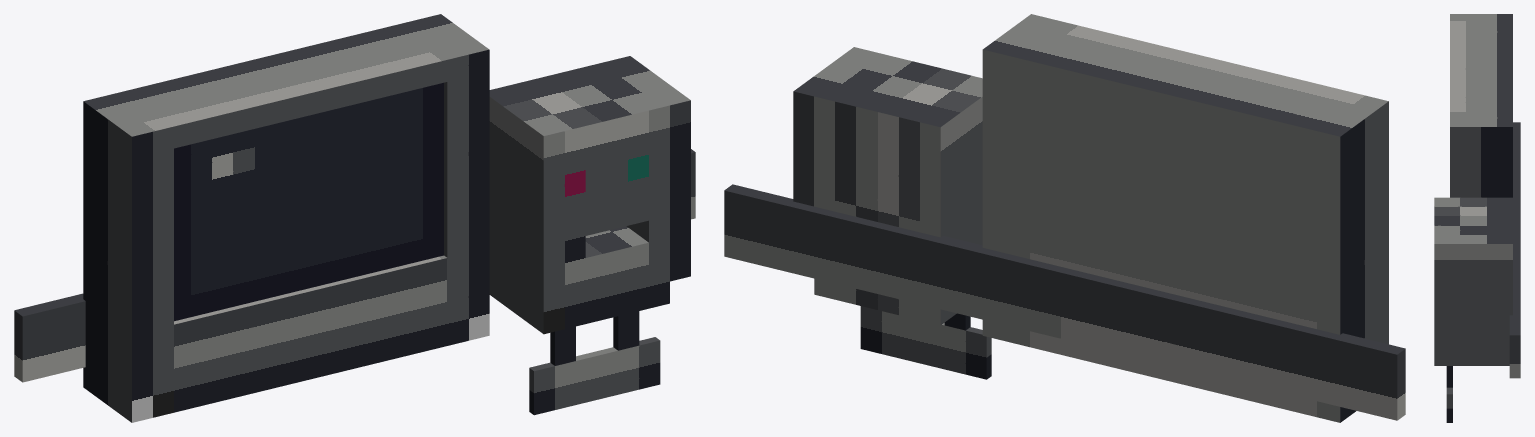
The model's file is ticket_machine_off.glb.
3 renders of one model, left to right at view 1: azimuth 30°, elevation 25°; view 2: azimuth 150°, elevation 25°; view 3: azimuth 270°, elevation 25°, orthographic. The views are drawn at different scales.
Visible parts, largest first — view 1: Continuous_Display_Housing, Continuous_Ticket_Dispenser, Recessed_Display_Surface, Lower_Dispenser_Bracket, Shared_Wall_Mounting_Rail; view 2: Continuous_Display_Housing, Shared_Wall_Mounting_Rail, Continuous_Ticket_Dispenser, Lower_Dispenser_Bracket; view 3: Continuous_Ticket_Dispenser, Continuous_Display_Housing, Shared_Wall_Mounting_Rail, Lower_Dispenser_Bracket.
Part boxes in pixels (x1,y1,x2,y2): Continuous_Display_Housing: [83, 14, 489, 422]; Continuous_Ticket_Dispenser: [489, 56, 690, 334]; Recessed_Display_Surface: [174, 82, 443, 321]; Lower_Dispenser_Bracket: [529, 311, 660, 415]; Shared_Wall_Mounting_Rail: [14, 149, 695, 382]; Continuous_Display_Housing: [982, 14, 1388, 422]; Shared_Wall_Mounting_Rail: [724, 184, 1405, 420]; Continuous_Ticket_Dispenser: [793, 47, 982, 325]; Lower_Dispenser_Bracket: [860, 306, 991, 379]; Continuous_Ticket_Dispenser: [1434, 197, 1512, 365]; Continuous_Display_Housing: [1450, 14, 1512, 197]; Shared_Wall_Mounting_Rail: [1509, 122, 1520, 378]; Lower_Dispenser_Bracket: [1446, 366, 1452, 422].
Bounding box in the file's own units: 0.9 × 0.4781 × 0.1547.
Materials: 2 (2 with a texture image).
